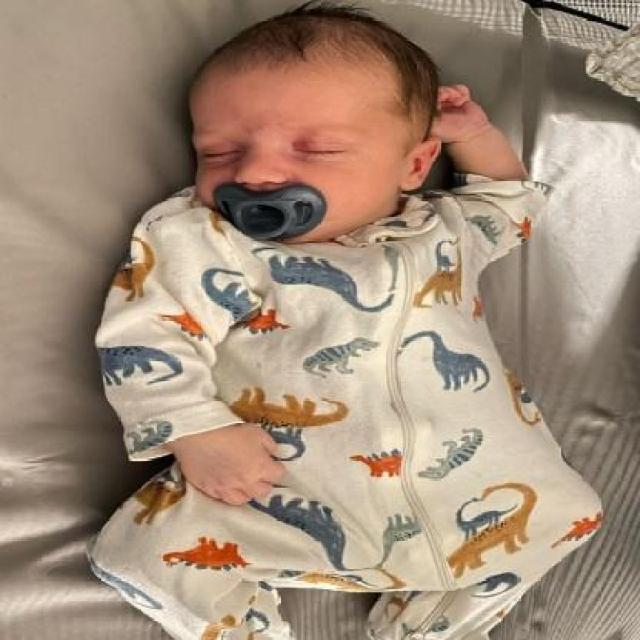baby: (80, 6, 602, 639)
